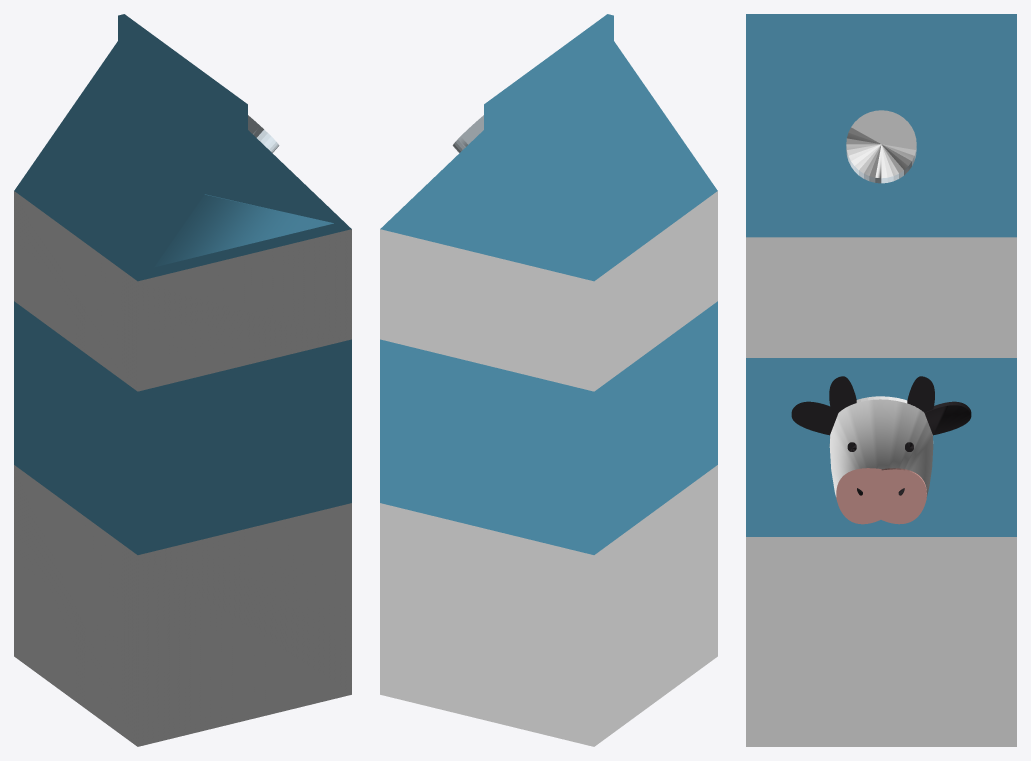
The model's file is milk.fbx.
3 renders of one model, left to right at view 1: azimuth 30°, elevation 25°; view 2: azimuth 150°, elevation 25°; view 3: azimuth 270°, elevation 25°, orthographic. The views are drawn at different scales.
Parts seen in each view (by area): view 1: milk; view 2: milk; view 3: milk.
Part boxes in pixels (x1,y1,x2,y2): milk: (14, 14, 351, 746); milk: (380, 14, 717, 746); milk: (746, 14, 1016, 746).
Bounding box in the file's own units: 52.55 × 137 × 50.
